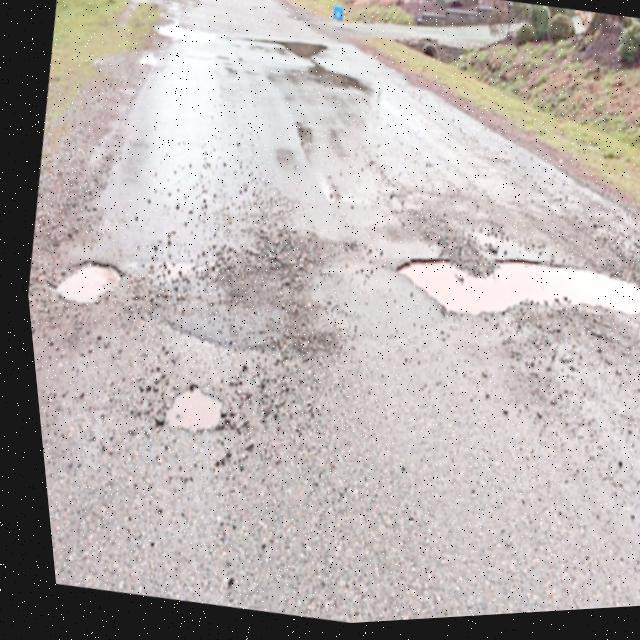pothole: (376, 224, 640, 370), (142, 367, 230, 451), (38, 242, 125, 324)
